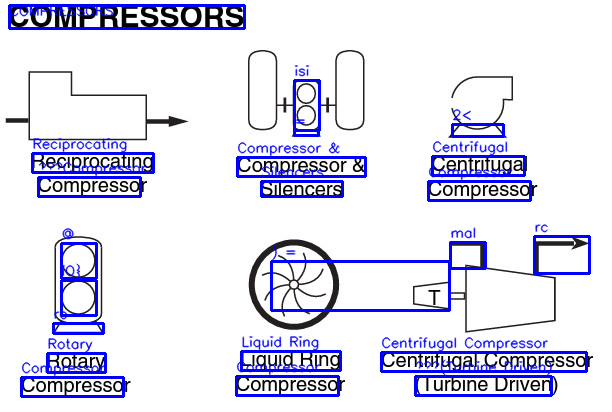Compressor: (408, 234, 591, 336), (4, 63, 196, 151), (241, 48, 367, 142), (243, 237, 343, 333), (48, 231, 109, 336), (442, 70, 517, 142)
